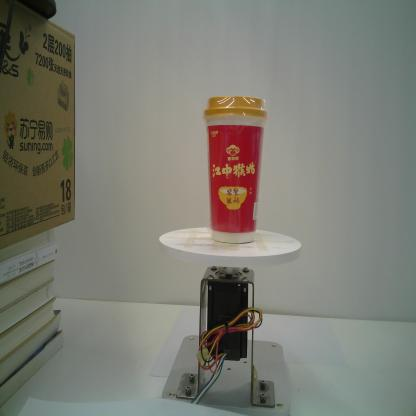Instant Drink: (202, 95, 268, 244)
